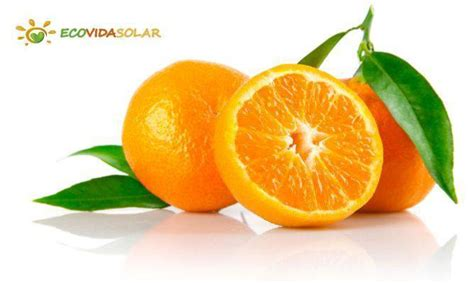orange: (117, 53, 244, 219)
